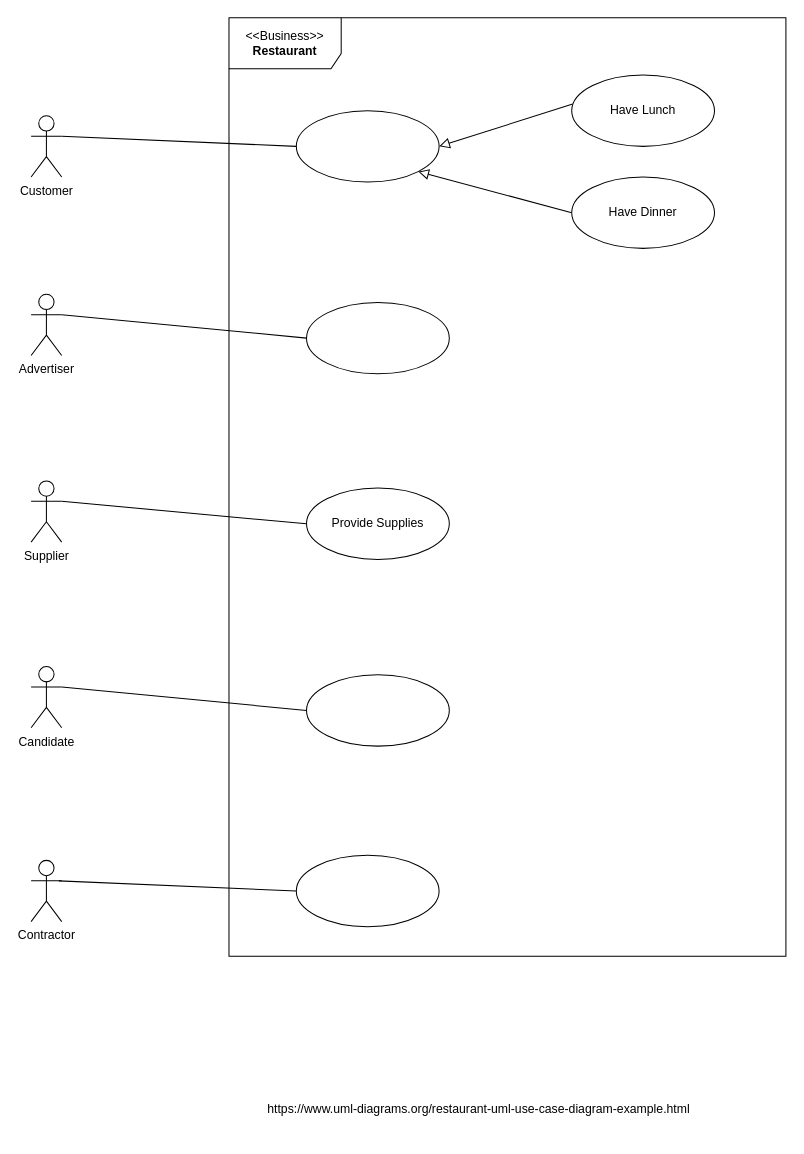
Some shapes in this 804 by 1154 pixel diagram are drawn without their labels. The box of each missing label's shape, as (x1, y1, x2, y2) in pixels:
Advertise: (305, 301, 449, 374)
Apply For Job: (305, 674, 449, 746)
Have Meal: (295, 110, 439, 182)
Repair Applicances: (295, 854, 439, 927)
